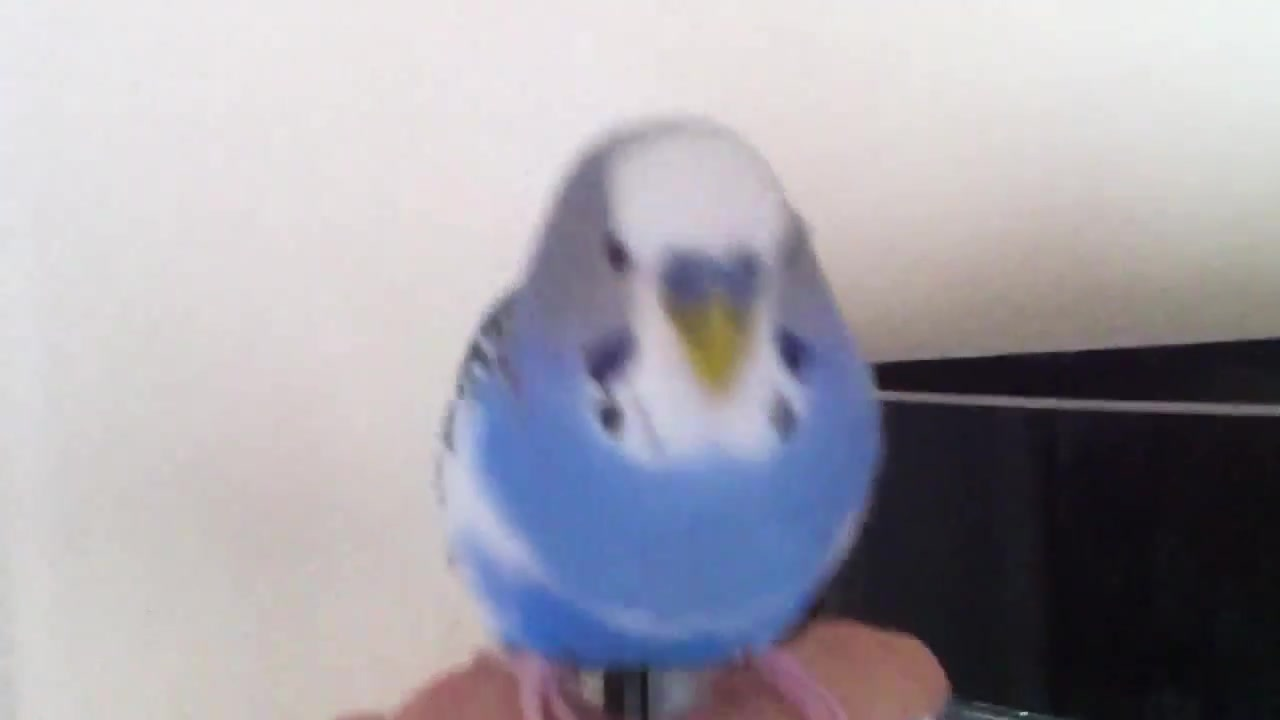bird: (431, 112, 885, 720)
